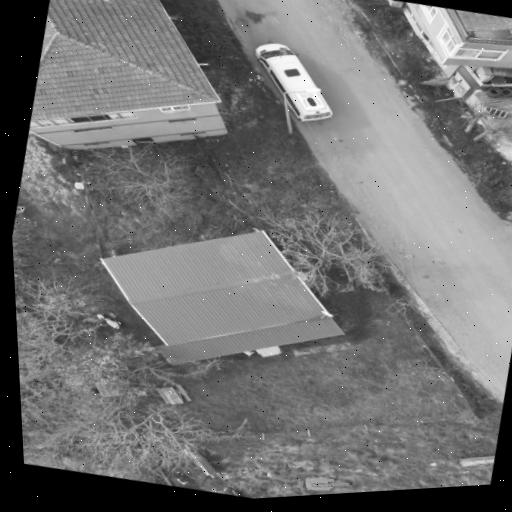car: (255, 43, 331, 122)
